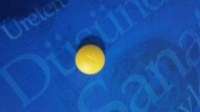Nurofen: (74, 43, 106, 76)
